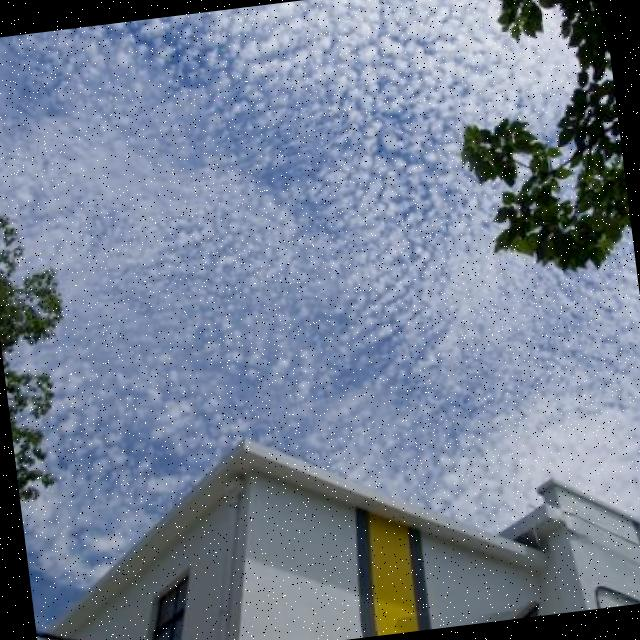Cc: (1, 1, 469, 200)
